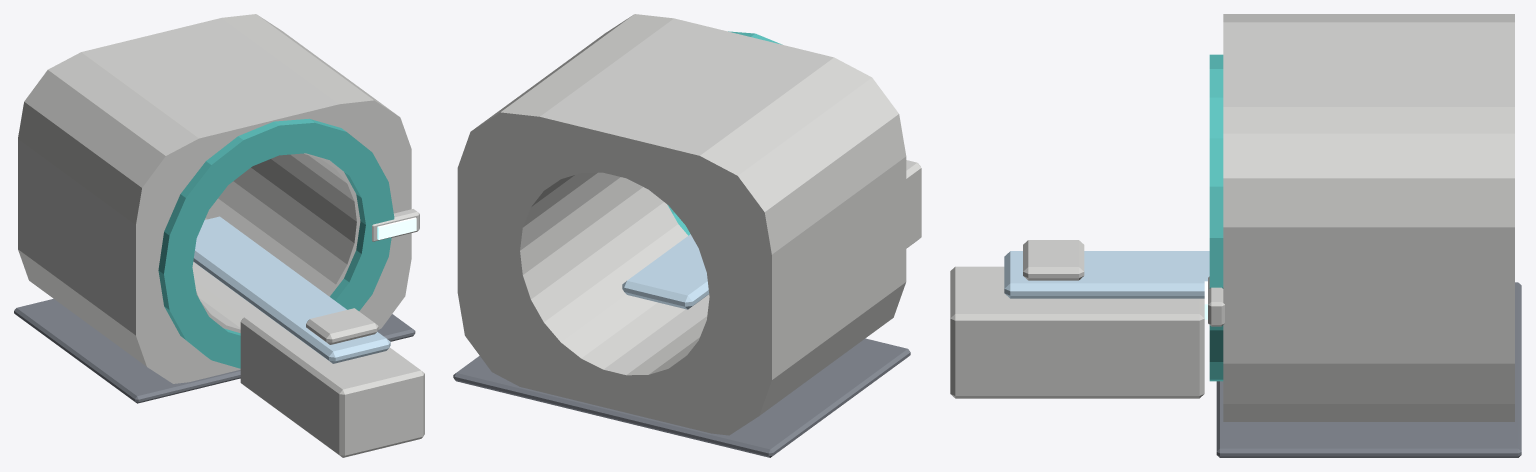
The model's file is medical-23602.glb.
3 views of the same model, side by side, from view 1: azimuth 30°, elevation 25°; view 2: azimuth 150°, elevation 25°; view 3: azimuth 270°, elevation 25° (orthographic). The views are drawn at different scales.
Parts seen in each view (by area): view 1: mri-scanner; view 2: mri-scanner; view 3: mri-scanner.
Boxes of the visible parts, <box> form: mri-scanner: <box>14,14,424,457</box>; mri-scanner: <box>453,14,921,457</box>; mri-scanner: <box>950,14,1521,457</box>.
Bounding box in the file's own units: 2.37 × 2 × 3.37.
